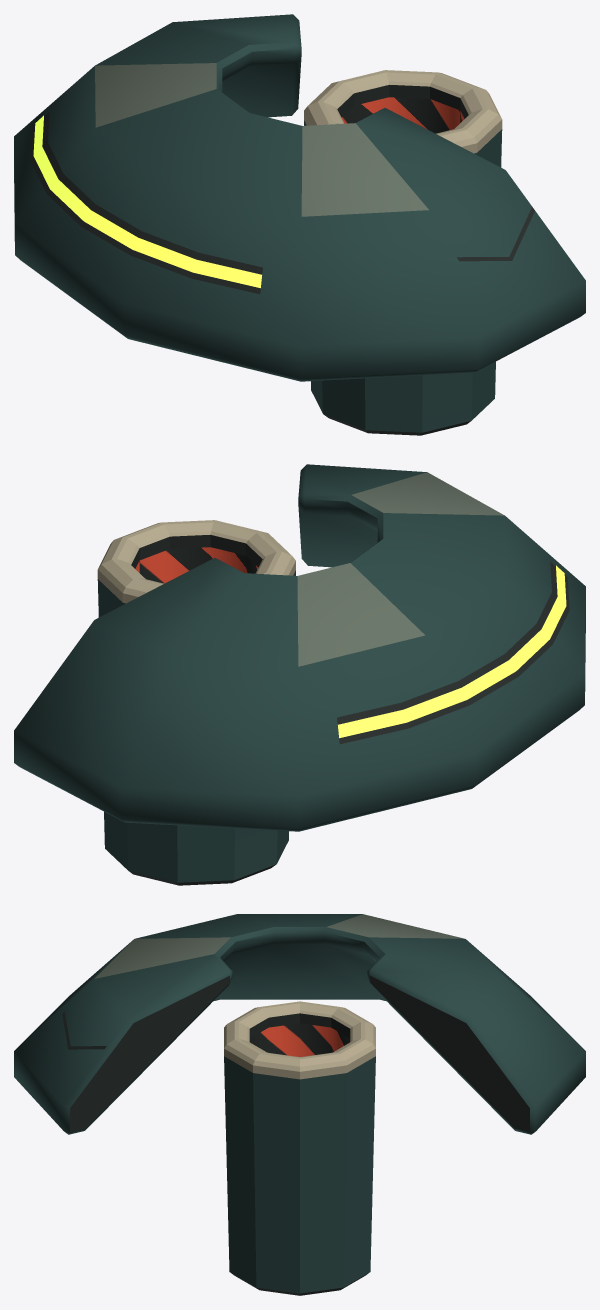
The model's file is warden_mantle_meltdown.glb.
3 renders of one model, top to bottom at view 1: azimuth 30°, elevation 25°; view 2: azimuth 150°, elevation 25°; view 3: azimuth 270°, elevation 25°, orthographic. The views are drawn at different scales.
Parts seen in each view (by area): view 1: MeltRearShell, MeltVentBell0; view 2: MeltRearShell, MeltVentBell0; view 3: MeltRearShell, MeltVentBell0.
Boxes of the visible parts, x1,y1,x2,y2 form: MeltRearShell: [14, 14, 585, 381]; MeltVentBell0: [304, 70, 502, 435]; MeltRearShell: [14, 464, 585, 831]; MeltVentBell0: [97, 520, 295, 885]; MeltRearShell: [14, 914, 585, 1134]; MeltVentBell0: [224, 1001, 375, 1295].
Size of the model in its own units: 2.31 by 1.79 by 3.4.
Materials: 4 (1 with a texture image).
